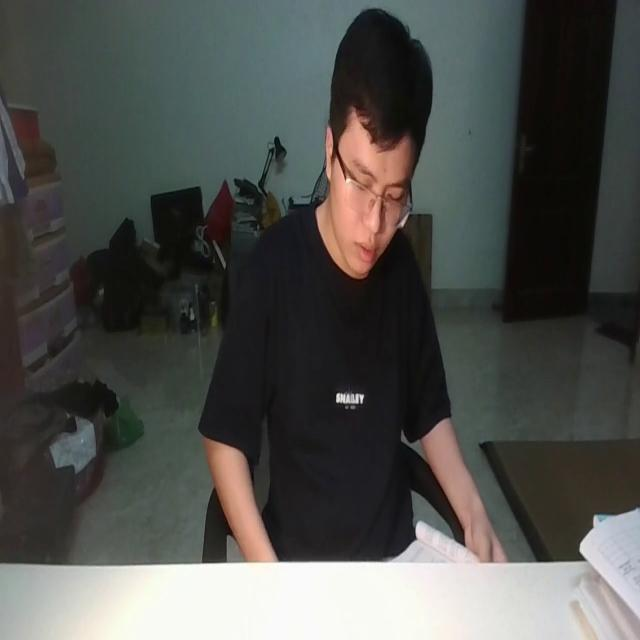book: (381, 514, 484, 564)
student: (198, 7, 507, 568)
